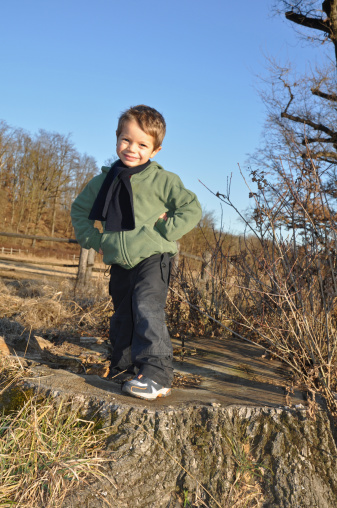em pe: (75, 109, 189, 386)
